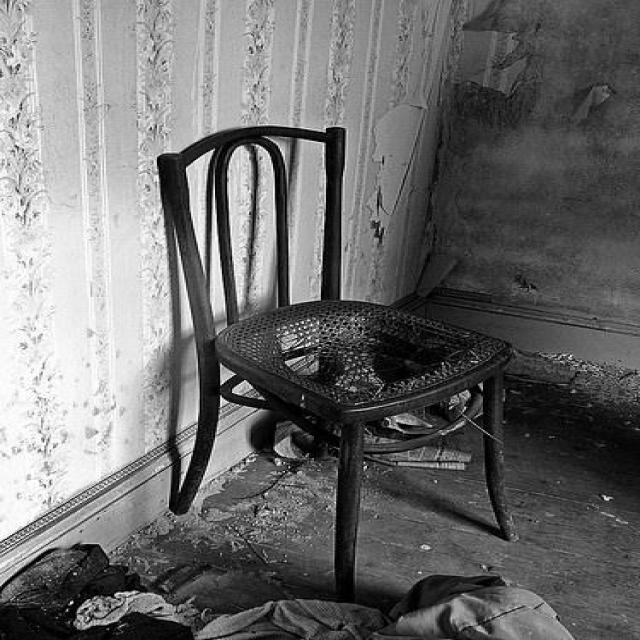chair: (148, 125, 522, 595)
